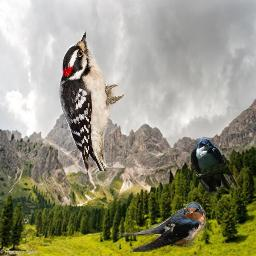Swallow: (116, 202, 206, 252), (189, 137, 240, 198)
Woodpecker: (59, 31, 124, 171)
